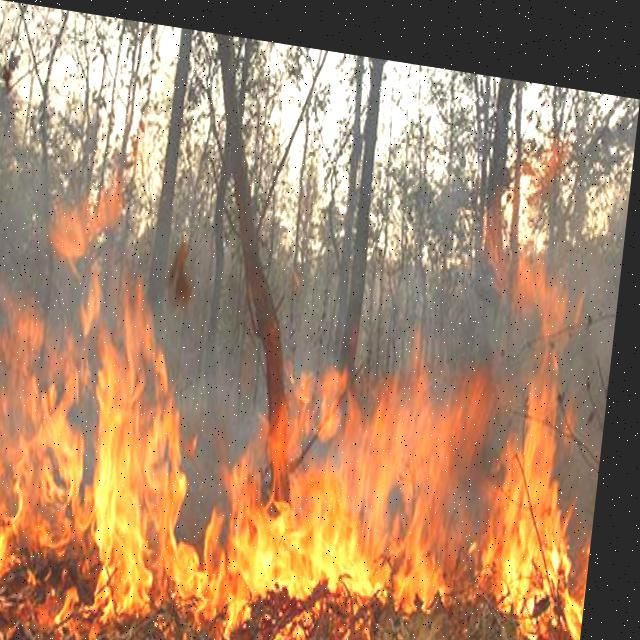Fire: (0, 56, 635, 639)
